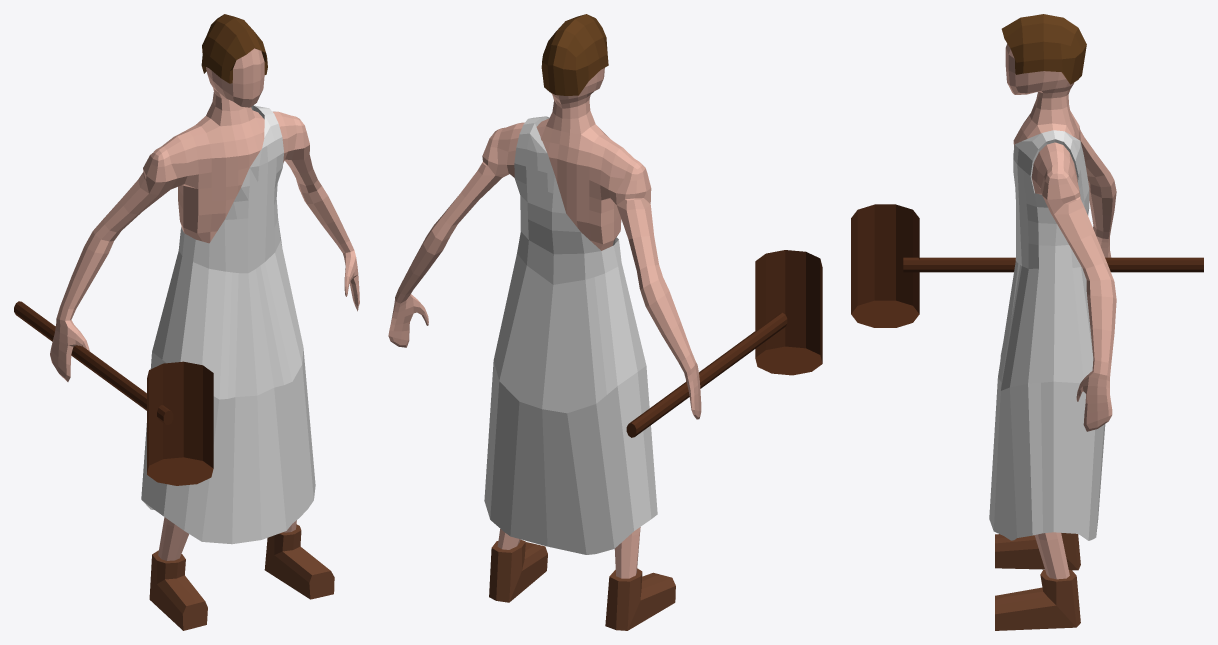
The model's file is Worker.fbx.
3 renders of one model, left to right at view 1: azimuth 30°, elevation 25°; view 2: azimuth 150°, elevation 25°; view 3: azimuth 270°, elevation 25°, orthographic.
Visible parts, largest first — view 1: Toge, Cube, Marteau, Chaussures, Cheveux; view 2: Toge, Cube, Marteau, Chaussures, Cheveux; view 3: Toge, Cube, Marteau, Chaussures, Cheveux.
Part boxes in pixels (x1,y1,x2,y2): Toge: [141, 105, 315, 544]; Cube: [50, 48, 359, 560]; Marteau: [14, 301, 213, 485]; Chaussures: [149, 524, 334, 630]; Cheveux: [201, 14, 267, 83]; Toge: [484, 116, 657, 554]; Cube: [388, 68, 701, 578]; Marteau: [626, 250, 822, 437]; Chaussures: [489, 539, 675, 630]; Cheveux: [541, 14, 608, 95]; Toge: [989, 130, 1105, 540]; Cube: [1005, 43, 1116, 579]; Marteau: [851, 204, 1203, 327]; Chaussures: [995, 533, 1080, 630]; Cheveux: [1001, 14, 1086, 84].
Size of the model in its own units: 339 by 598 by 330.
